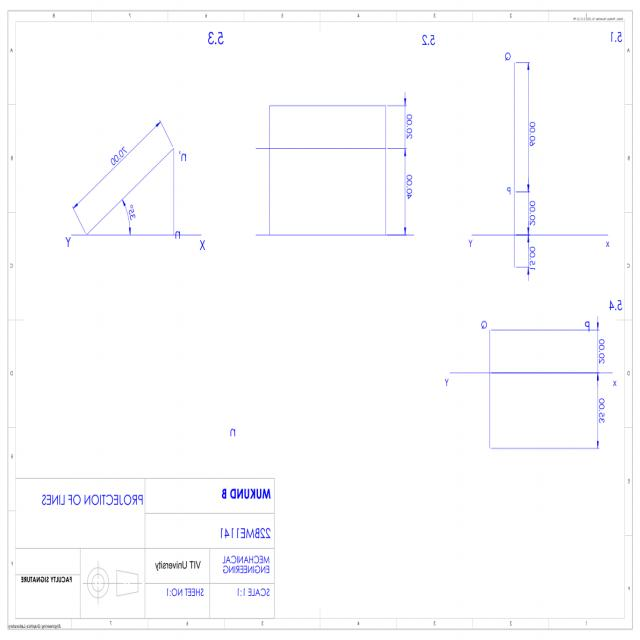Drawings: (466, 60, 622, 282), (252, 90, 419, 248), (442, 314, 620, 454), (61, 110, 211, 260)
